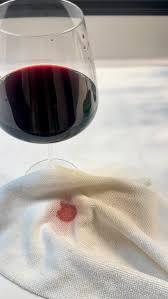oil: (54, 196, 81, 230)
